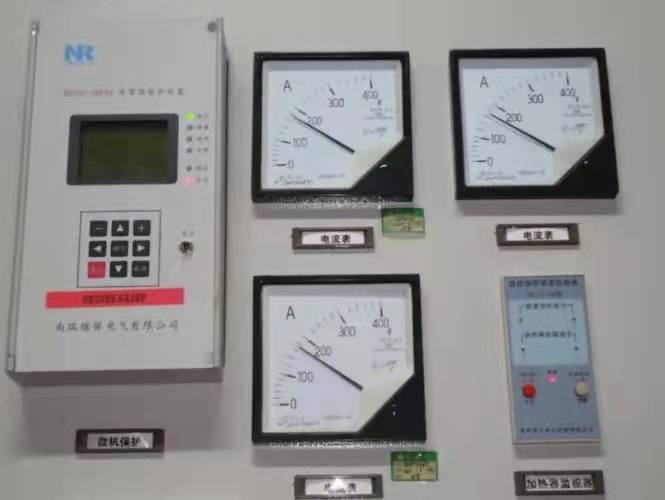pointer: (257, 282, 414, 433), (455, 52, 606, 190), (256, 56, 405, 189)
